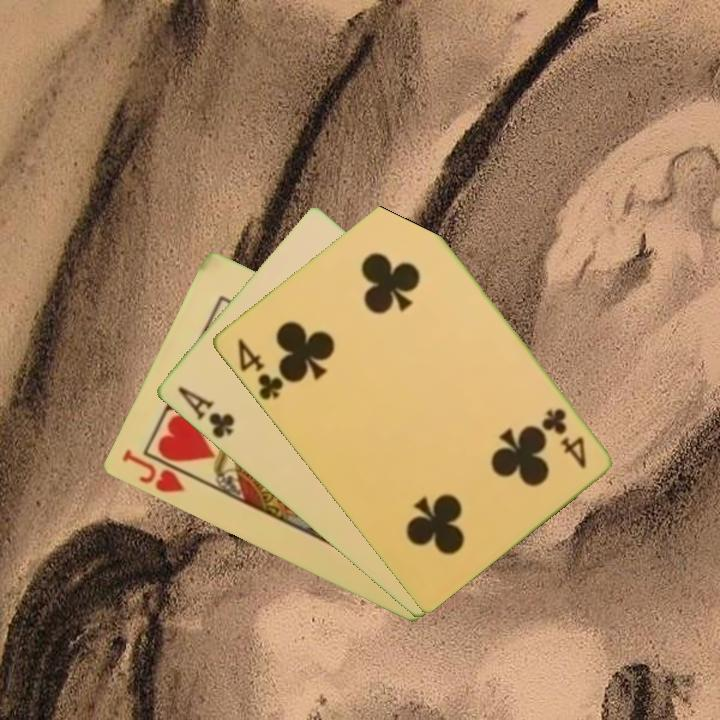4c: (233, 334, 286, 403), (538, 404, 589, 472)
Ac: (173, 383, 237, 442)
Jh: (118, 446, 188, 496)
